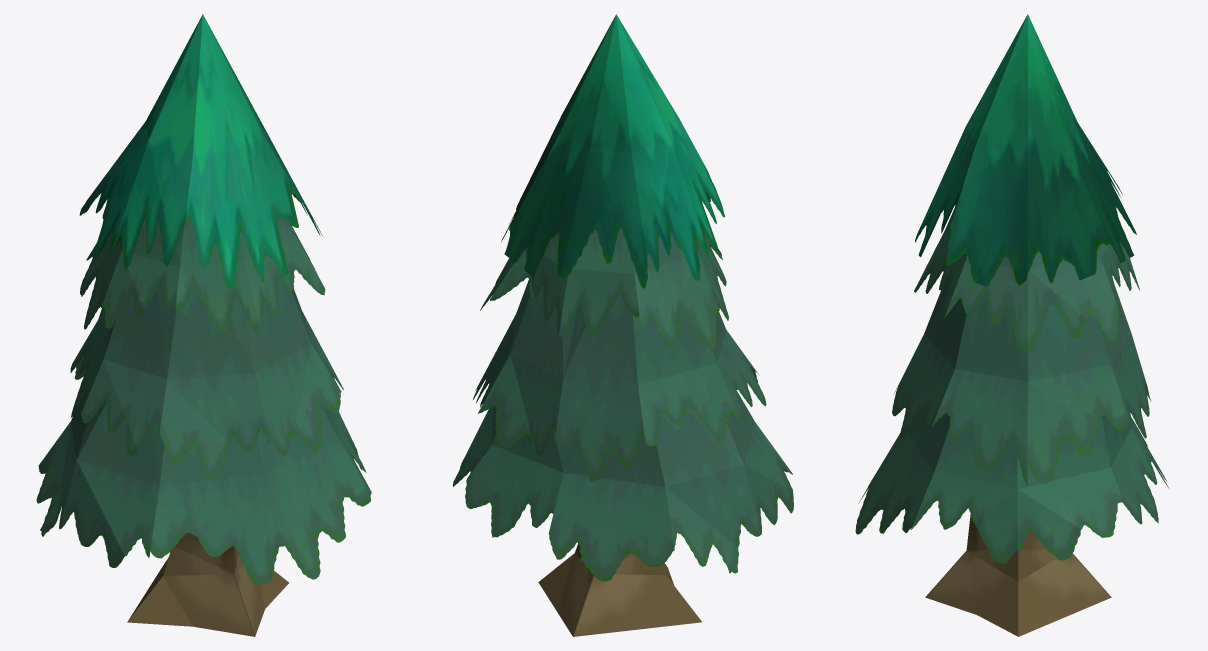
The model's file is ORAS Tree Updated.fbx.
The picture shows the model from 3 angles, left to right: view 1: azimuth 30°, elevation 25°; view 2: azimuth 150°, elevation 25°; view 3: azimuth 270°, elevation 25°; orthographic projection.
Visible parts, largest first — view 1: ORAS Tree; view 2: ORAS Tree; view 3: ORAS Tree.
Boxes of the visible parts, x1,y1,x2,y2 form: ORAS Tree: (36,14,371,636); ORAS Tree: (453,14,793,636); ORAS Tree: (855,14,1168,636).
Size of the model in its own units: 3.5 by 6.2 by 3.4.
